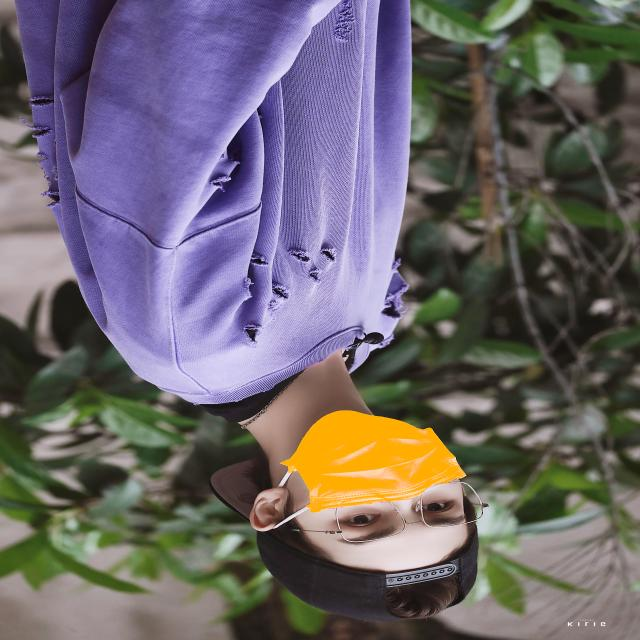Mask: (279, 408, 470, 516)
